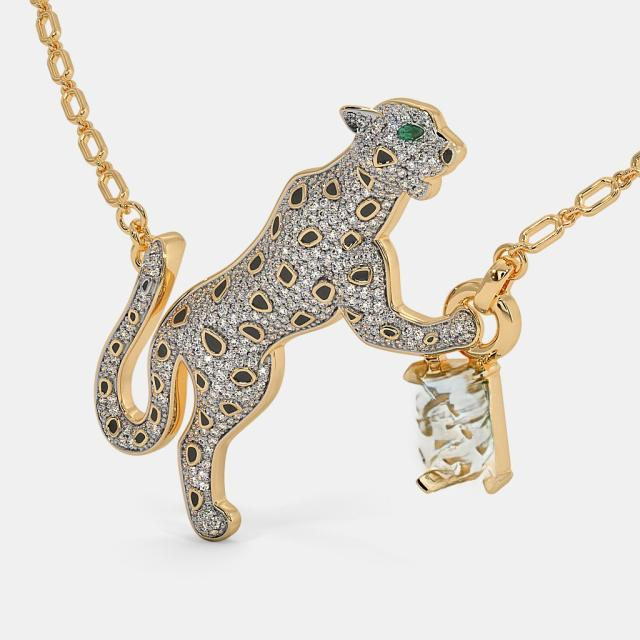missing gem: (407, 369, 500, 483)
